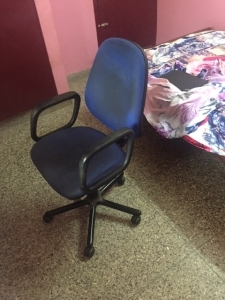chair: (29, 37, 148, 258)
